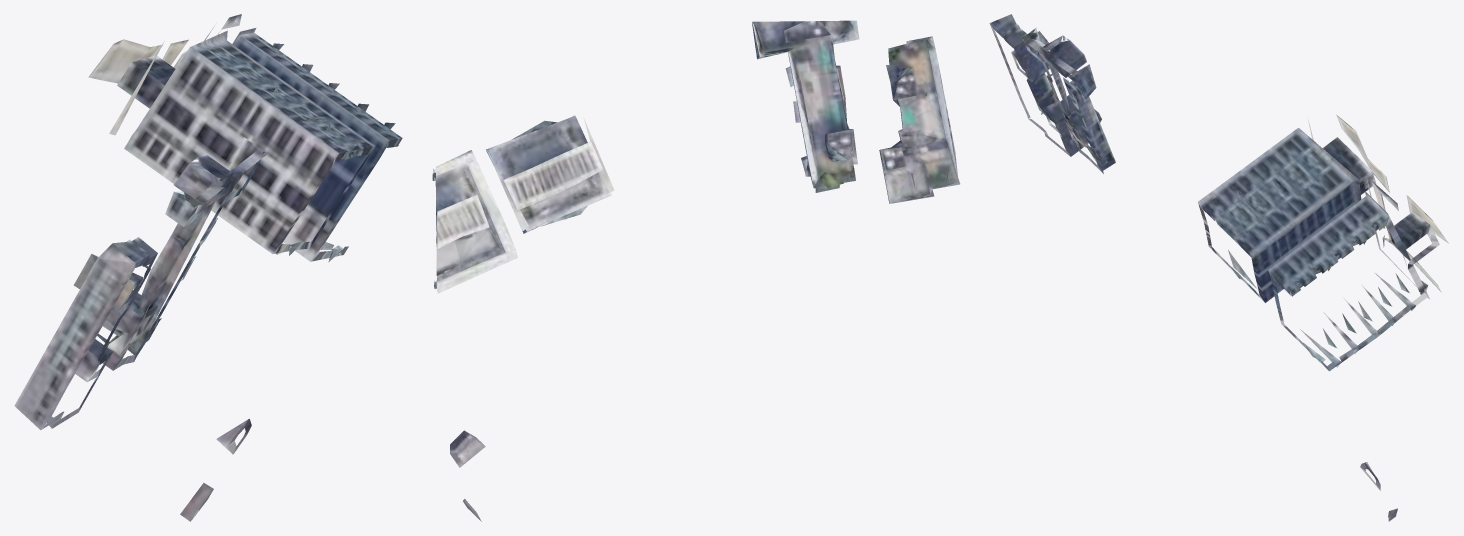
The picture shows the model from 3 angles, left to right: view 1: azimuth 30°, elevation 25°; view 2: azimuth 150°, elevation 25°; view 3: azimuth 270°, elevation 25°; orthographic projection. The views are drawn at different scales.
Bounding box in the file's own units: 121 × 120 × 124.
Materials: 1 (1 with a texture image).
